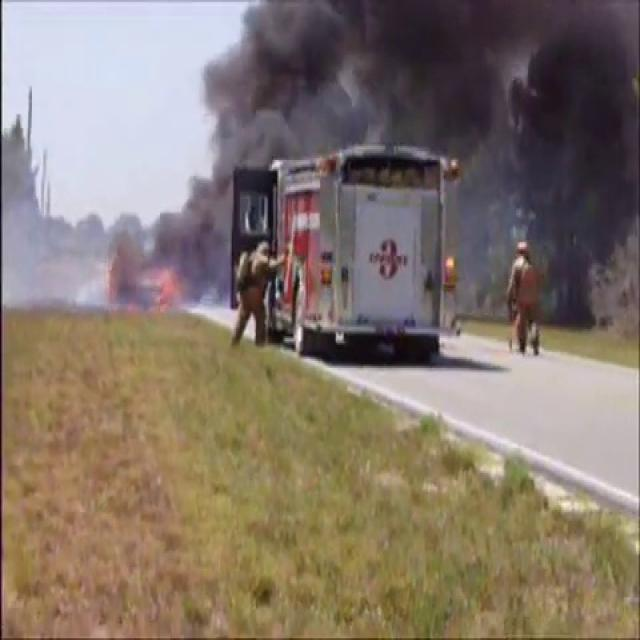Smoke: (202, 0, 640, 281)
